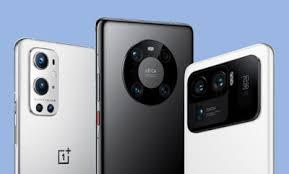Smartphone: (90, 16, 192, 174), (182, 35, 277, 174), (12, 40, 99, 174)
